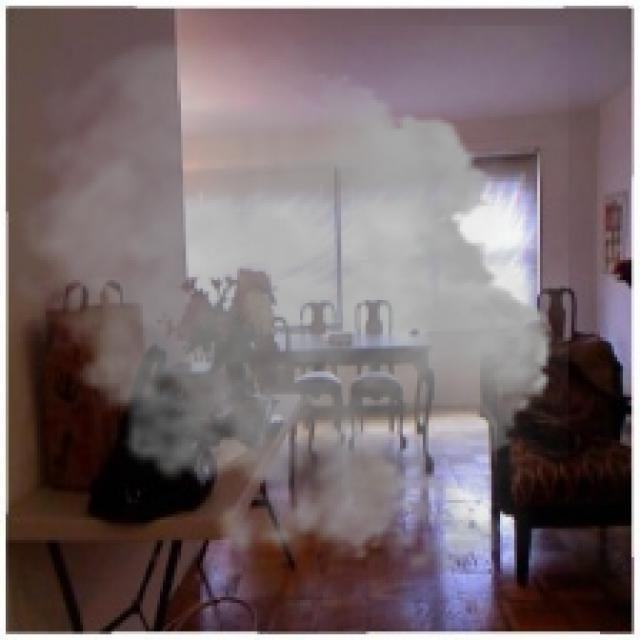Smoke: (0, 26, 569, 592)
